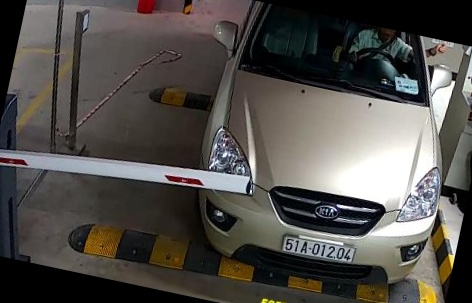plate: (281, 230, 358, 271)
